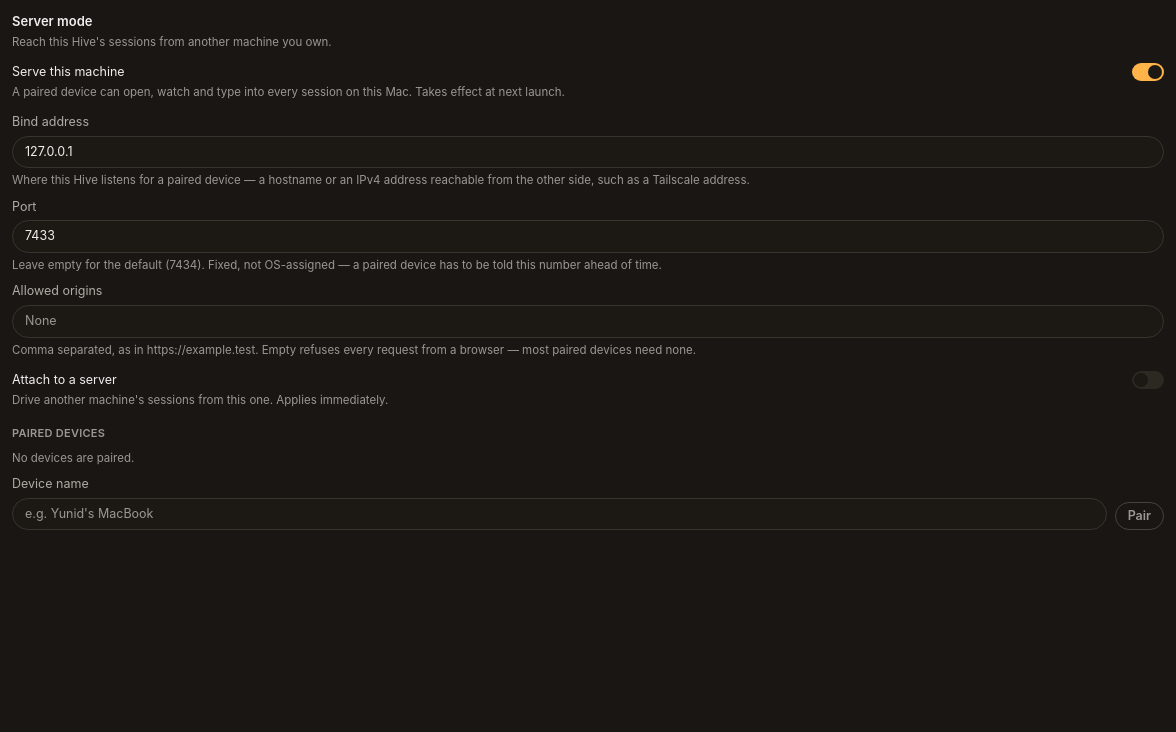
it: ServerModeGroup › the bind fields › refuses 0.0.0.0, naming why
Replace the text in the field labelled "Bind address" with "0.0.0.0": (588, 152) top-left (12, 136), bottom-right (1164, 168)
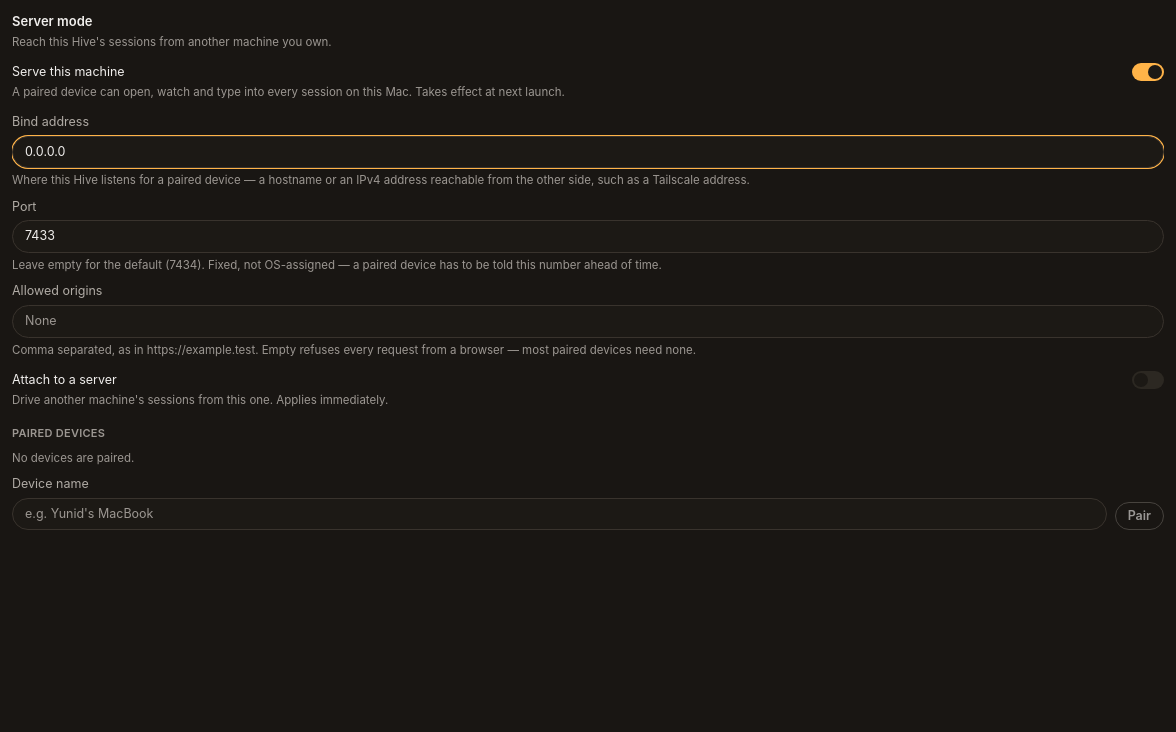
Press Tab
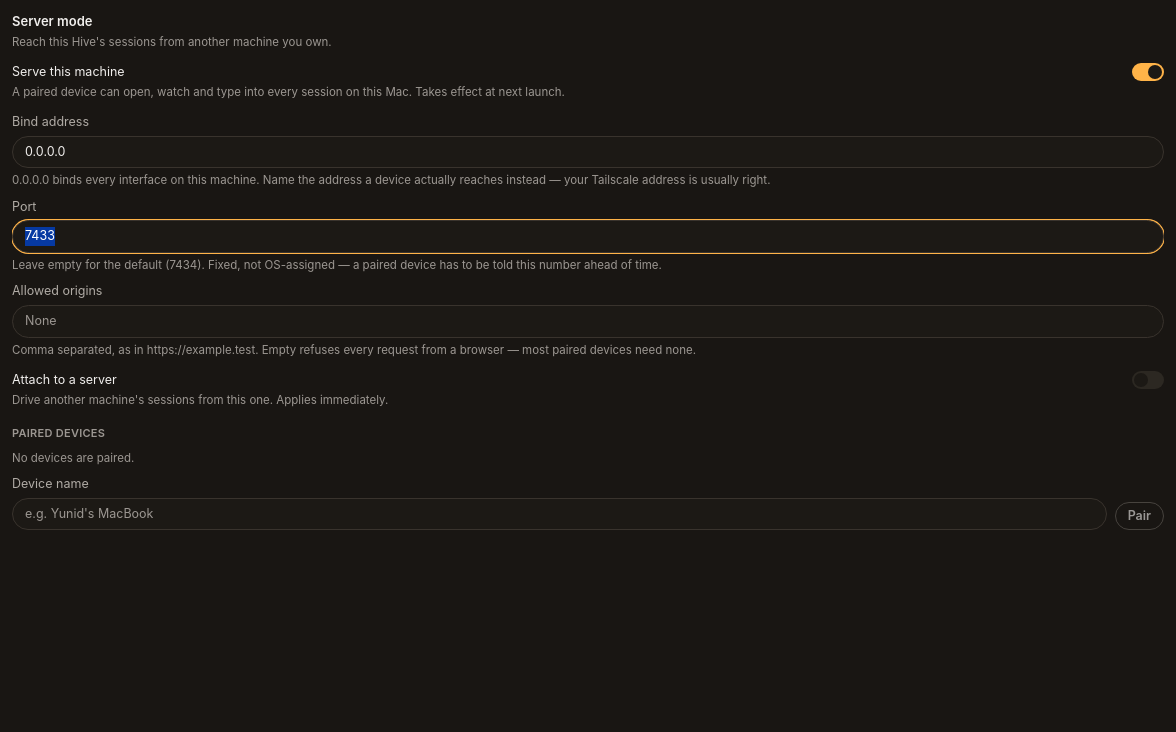
Check: the text "binds every interface" is shown, box top-left (12, 173), bottom-right (770, 187)
